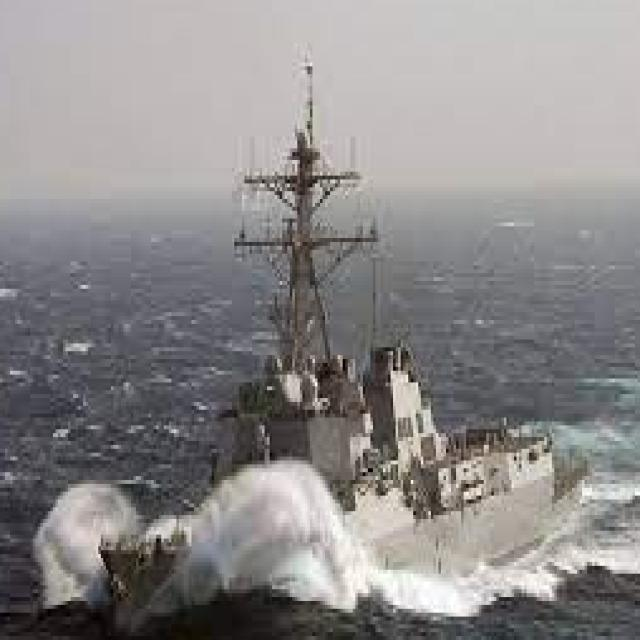navalvessels: (113, 38, 573, 628)
